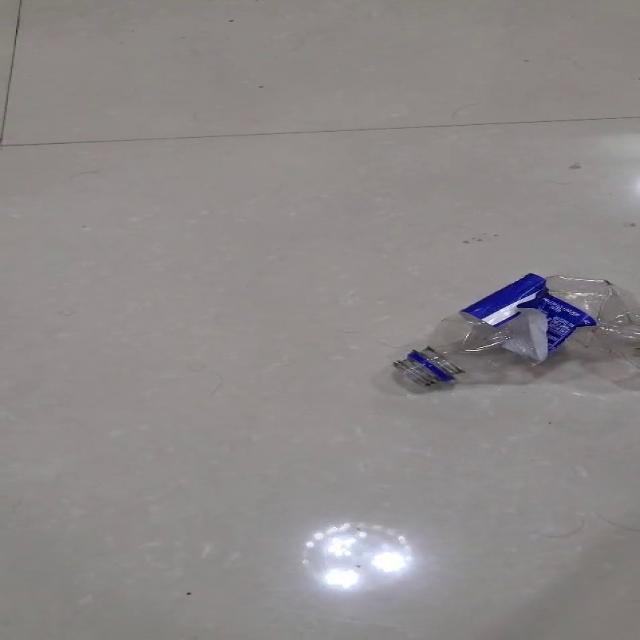plastic: (391, 272, 637, 390)
